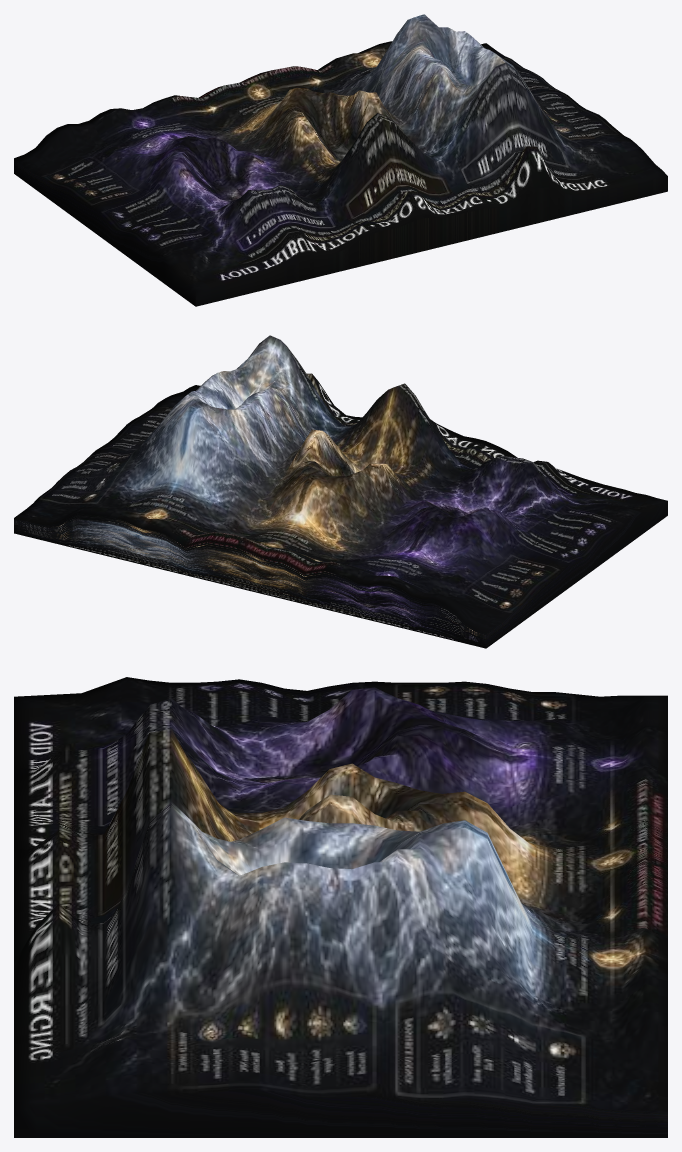
Rendered from Heavenly_Realm_Group.glb.
3 renders of one model, top to bottom at view 1: azimuth 30°, elevation 25°; view 2: azimuth 150°, elevation 25°; view 3: azimuth 270°, elevation 25°, orthographic. The views are drawn at different scales.
Parts seen in each view (by area): view 1: Heavenly_Realm_Group; view 2: Heavenly_Realm_Group; view 3: Heavenly_Realm_Group.
Part boxes in pixels (box(x1,y1,x2,y2)): Heavenly_Realm_Group: box(14, 14, 667, 306); Heavenly_Realm_Group: box(14, 335, 667, 648); Heavenly_Realm_Group: box(14, 677, 667, 1137).
Bounding box in the file's own units: 2 × 0.51 × 1.33.
1 material, 1 textured.
